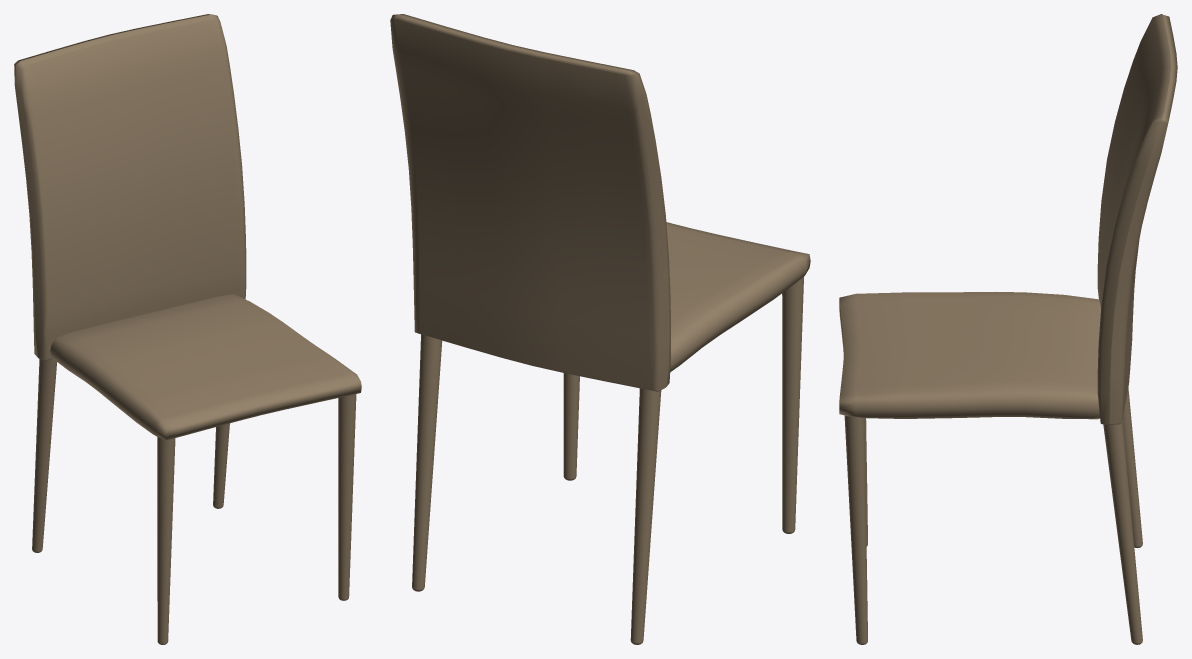
Rendered from chair_53_02.001.fbx.
3 renders of one model, left to right at view 1: azimuth 30°, elevation 25°; view 2: azimuth 150°, elevation 25°; view 3: azimuth 270°, elevation 25°, orthographic. The views are drawn at different scales.
Visible parts, largest first — view 1: chair_53_02.001; view 2: chair_53_02.001; view 3: chair_53_02.001.
Boxes of the visible parts, bbox=[...] form: chair_53_02.001: bbox=[14, 14, 361, 644]; chair_53_02.001: bbox=[390, 14, 810, 644]; chair_53_02.001: bbox=[839, 14, 1177, 644].
Size of the model in its own units: 41.99 by 92.09 by 53.32.
1 material, 1 textured.
